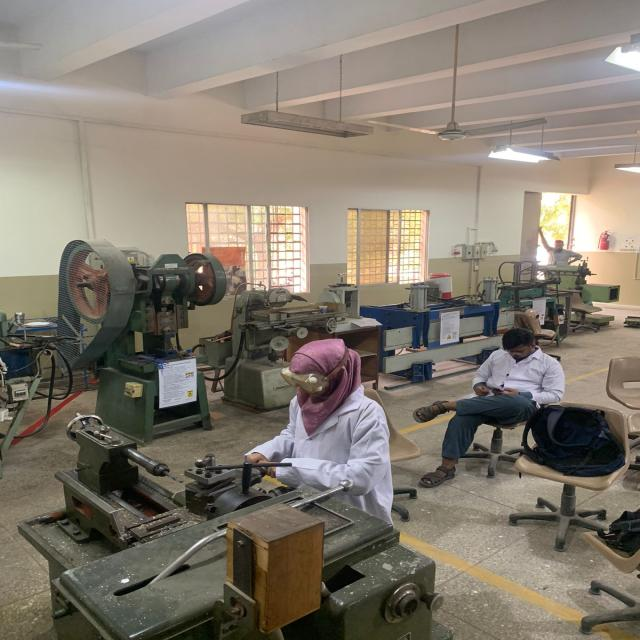googles: (280, 364, 329, 394)
labcoat: (238, 387, 398, 533), (474, 343, 572, 409)
